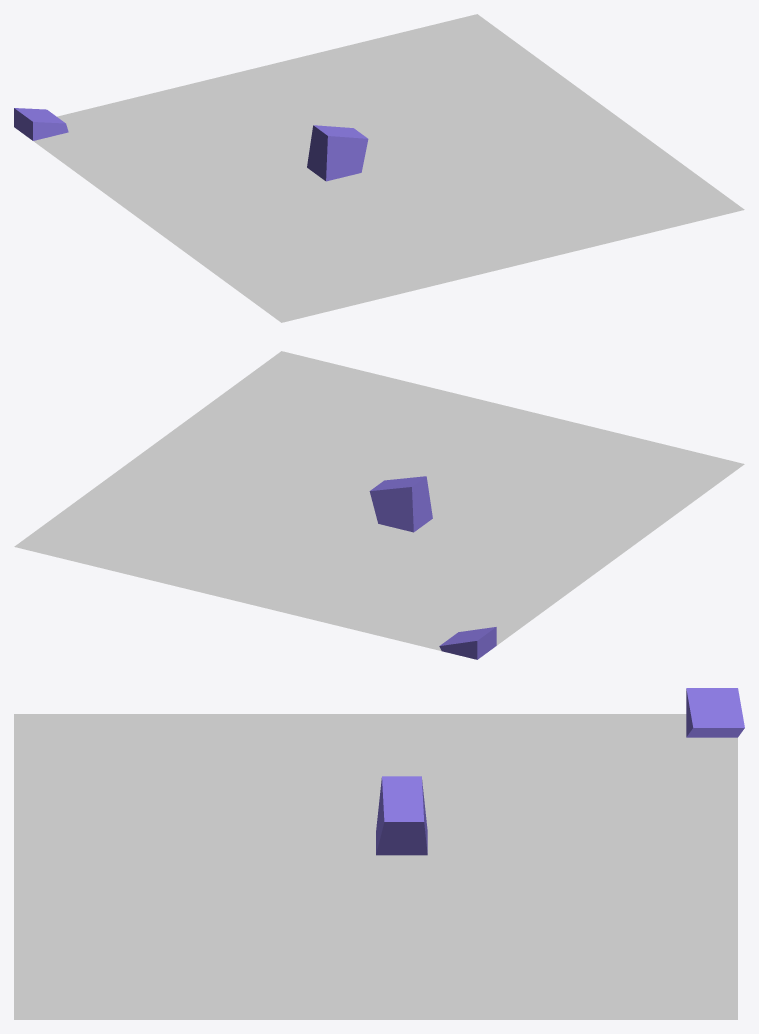
Rendered from ground.fbx.
3 views of the same model, one above another, from view 1: azimuth 30°, elevation 25°; view 2: azimuth 150°, elevation 25°; view 3: azimuth 270°, elevation 25° (orthographic). The views are drawn at different scales.
Parts seen in each view (by area): view 1: Plane.122, Plane.002, Plane.011, Plane.014, Plane.023, Plane.026, Plane.037, Plane.048, Plane.052, Plane.055, Plane.058, Plane.059 (+166 smaller); view 2: Plane.122, Plane.002, Plane.008, Plane.017, Plane.020, Plane.029, Plane.040, Plane.051, Plane.052, Plane.055, Plane.058, Plane.061 (+165 smaller); view 3: Plane.122, Plane.002, Plane.140, Plane.142, Plane.144, Plane.052, Plane.054, Plane.056, Plane.096, Plane.098, Plane.100, Plane.129 (+168 smaller).
Part boxes in pixels (x1,y1,x2,y2): Plane.122: (307, 125, 368, 181); Plane.002: (14, 108, 68, 140); Plane.011: (167, 230, 220, 252); Plane.014: (224, 272, 278, 294); Plane.023: (538, 84, 591, 106); Plane.026: (480, 42, 534, 64); Plane.037: (619, 213, 673, 235); Plane.048: (85, 101, 139, 123); Plane.052: (564, 208, 618, 230); Plane.055: (457, 234, 511, 256); Plane.058: (351, 260, 404, 282); Plane.059: (315, 269, 368, 291); Plane.122: (369, 476, 432, 532); Plane.002: (439, 627, 496, 659); Plane.008: (538, 567, 591, 589); Plane.017: (224, 379, 278, 401); Plane.020: (167, 421, 220, 443); Plane.029: (619, 438, 673, 460); Plane.040: (85, 550, 139, 572); Plane.051: (315, 382, 368, 404); Plane.052: (351, 391, 404, 413); Plane.055: (457, 417, 511, 439); Plane.058: (564, 443, 618, 465); Plane.061: (260, 388, 314, 410); Plane.122: (376, 776, 427, 855); Plane.002: (686, 688, 744, 737); Plane.140: (479, 925, 531, 949); Plane.142: (479, 878, 531, 902); Plane.144: (479, 831, 531, 855); Plane.052: (65, 925, 117, 949); Plane.054: (65, 878, 117, 902); Plane.056: (65, 831, 117, 855); Plane.096: (272, 925, 324, 949); Plane.098: (272, 878, 324, 902); Plane.100: (272, 831, 324, 855); Plane.129: (427, 925, 479, 949).
Bounding box in the file's own units: 740 × 65.54 × 747.
